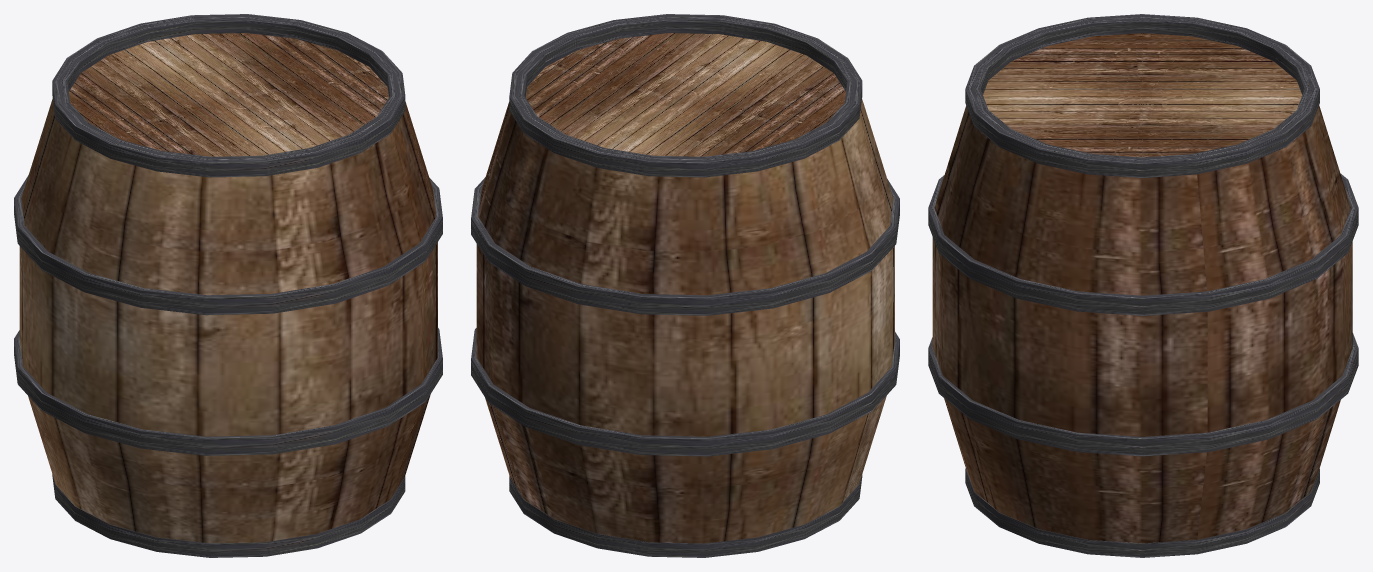
The model's file is oak.fbx.
3 views of the same model, side by side, from view 1: azimuth 30°, elevation 25°; view 2: azimuth 150°, elevation 25°; view 3: azimuth 270°, elevation 25° (orthographic).
Parts seen in each view (by area): view 1: pCylinder1, pPipe3, pPipe2, pPipe1, pPipe4; view 2: pCylinder1, pPipe3, pPipe2, pPipe1, pPipe4; view 3: pCylinder1, pPipe3, pPipe2, pPipe1, pPipe4.
Part boxes in pixels (x1,y1,x2,y2): pCylinder1: [19, 33, 437, 543]; pPipe3: [52, 14, 405, 177]; pPipe2: [14, 175, 442, 315]; pPipe1: [14, 328, 442, 455]; pPipe4: [52, 474, 405, 557]; pCylinder1: [476, 33, 894, 543]; pPipe3: [509, 14, 862, 177]; pPipe2: [471, 177, 899, 315]; pPipe1: [471, 328, 899, 456]; pPipe4: [509, 475, 862, 557]; pCylinder1: [932, 33, 1352, 543]; pPipe3: [965, 14, 1319, 177]; pPipe2: [928, 173, 1358, 315]; pPipe1: [928, 333, 1358, 456]; pPipe4: [965, 468, 1319, 557].
Bounding box in the file's own units: 12.11 × 12.24 × 12.11.
Materials: 2 (2 with a texture image).
